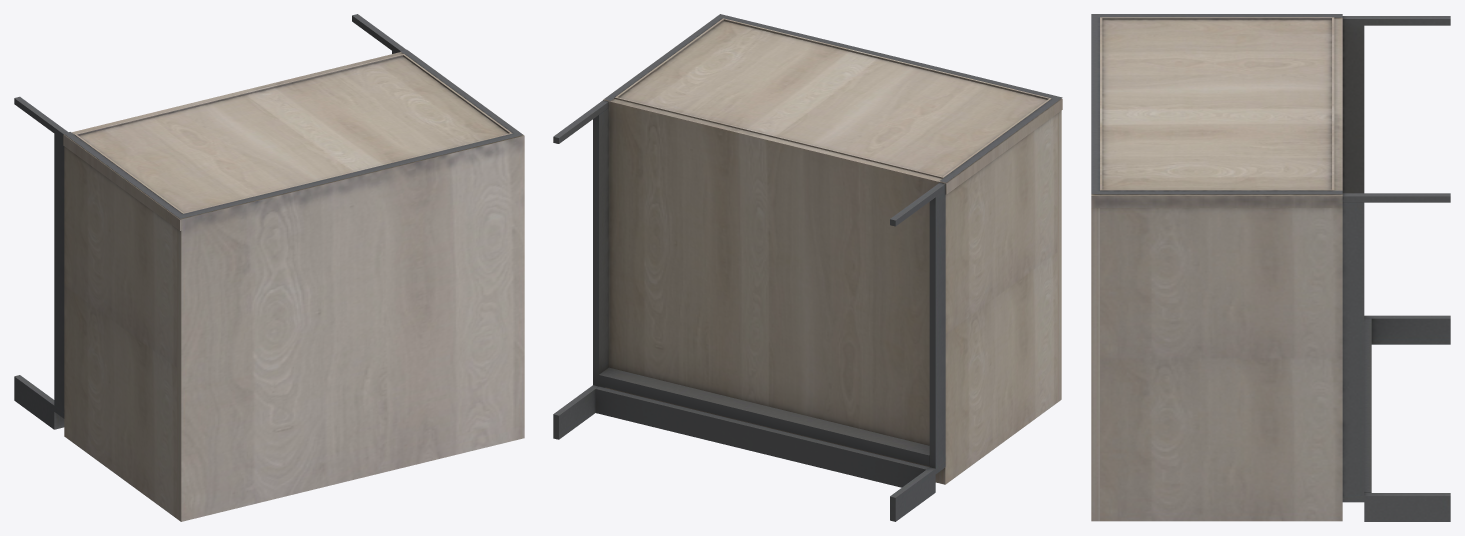
3 views of the same model, side by side, from view 1: azimuth 30°, elevation 25°; view 2: azimuth 150°, elevation 25°; view 3: azimuth 270°, elevation 25° (orthographic). The views are drawn at different scales.
Visible parts, largest first — view 1: FMP_Ctg_01_L; view 2: FMP_Ctg_01_L; view 3: FMP_Ctg_01_L.
Part boxes in pixels (x1=…): FMP_Ctg_01_L: x1=14, y1=14, x2=524, y2=521; FMP_Ctg_01_L: x1=553, y1=14, x2=1062, y2=521; FMP_Ctg_01_L: x1=1091, y1=14, x2=1450, y2=521.
Size of the model in its own units: 23.48 by 19.81 by 19.69.
